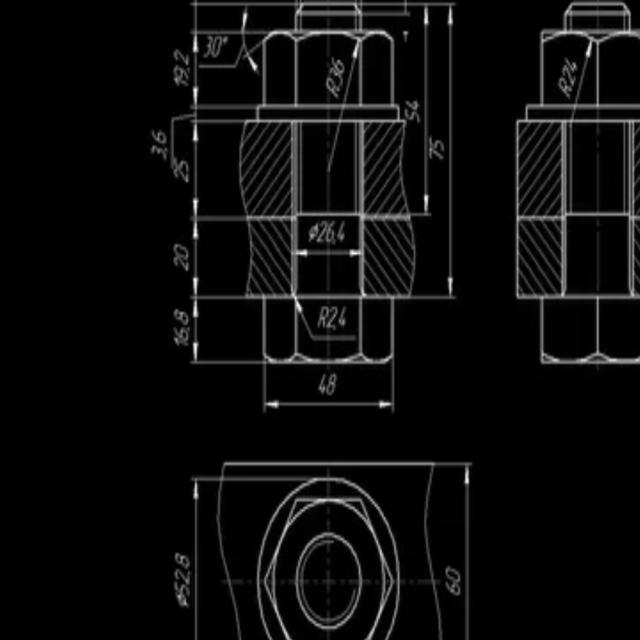marking_line: (421, 3, 458, 302), (260, 368, 402, 419), (183, 111, 241, 221), (186, 27, 256, 113), (184, 212, 243, 302), (446, 456, 473, 640), (183, 291, 243, 368), (189, 472, 214, 640), (417, 2, 436, 220), (298, 300, 355, 345), (566, 43, 595, 102), (240, 7, 262, 81), (299, 245, 360, 262)
numeric: (173, 550, 190, 570), (561, 65, 576, 86), (173, 568, 191, 585), (149, 144, 167, 161), (173, 49, 190, 66), (173, 242, 190, 259), (329, 69, 344, 88), (174, 307, 189, 326), (327, 303, 337, 331), (445, 566, 461, 583), (151, 129, 168, 145), (317, 303, 327, 329), (327, 372, 338, 395), (326, 221, 337, 244), (331, 54, 345, 72), (203, 34, 213, 58), (174, 168, 190, 183), (173, 256, 189, 271), (212, 37, 222, 60), (318, 371, 327, 396), (405, 108, 420, 123), (445, 583, 461, 597), (564, 56, 578, 72), (173, 581, 190, 594), (317, 220, 327, 242), (174, 158, 189, 172), (338, 221, 347, 243), (174, 325, 188, 339), (430, 135, 445, 148), (404, 98, 419, 110), (174, 68, 189, 80), (339, 306, 347, 327), (430, 148, 444, 160), (174, 336, 189, 346)
special_symbol: (173, 593, 190, 613), (325, 76, 339, 99), (308, 222, 319, 241), (222, 35, 229, 46)
